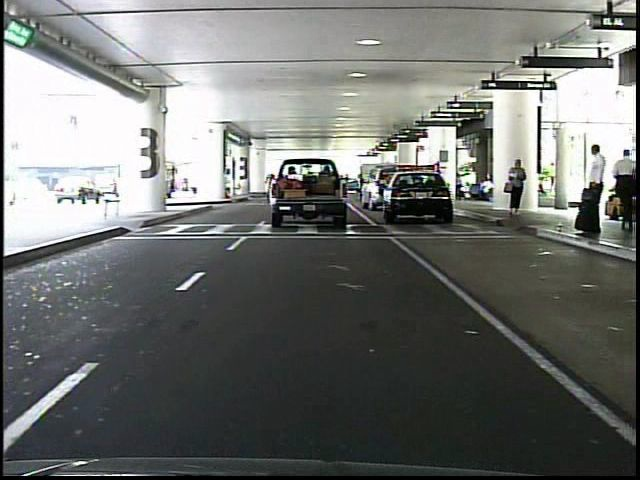person: (575, 139, 610, 242), (610, 143, 637, 232), (505, 151, 531, 221), (431, 160, 447, 204)
